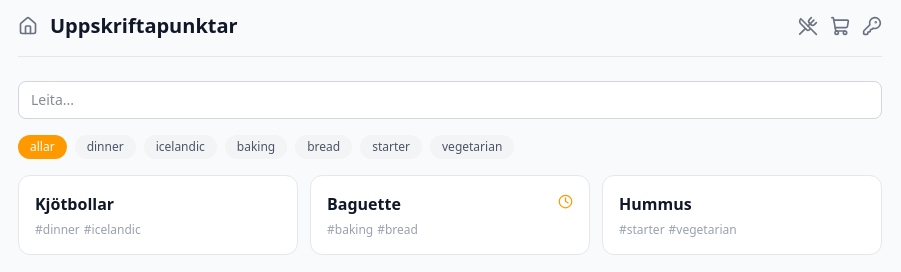
Test: Home page › filters recipes by title search
The image size is (901, 272).
Expected: the text "Kjötbollar" is shown, [35,192,114,216]
Type "Hummus" into the search field with placeholder "Leita..." at (450, 100), box [18,81,882,119]
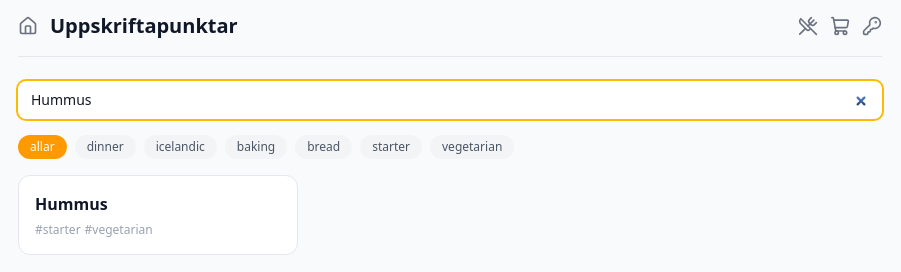
Expected: the text "Hummus" is shown, [35,192,108,216]
Expected: the link "Kjötbollar" is gone
Expected: the link "Baguette" is gone
